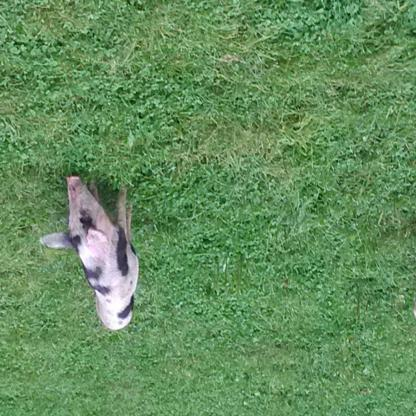boar: (40, 175, 139, 331)
